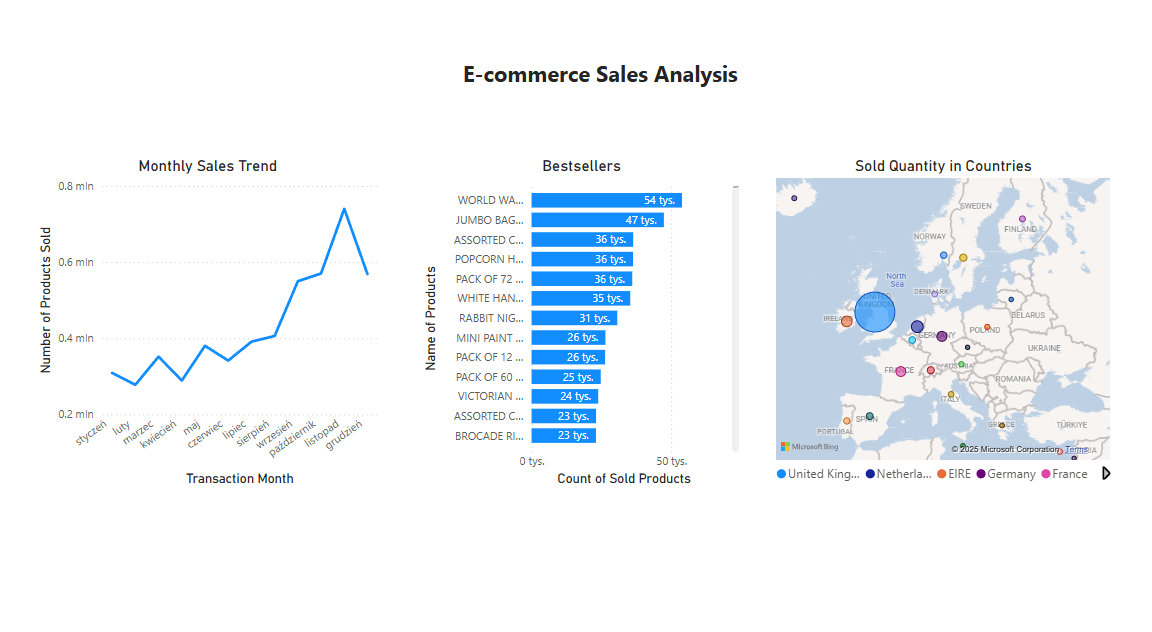

The page's visual inventory and layout, read from the dashboard file:
{"tool":"powerbi","page":{"name":"Strona 1","canvas":[1280,720],"ordinal":0},"visuals":[{"type":"lineChart","title":"Monthly Sales Trend","fields":{"Y":["Sum(data.Quantity)"],"Category":["data.InvoiceDate.Odmiana.Hierarchia dat.Miesiąc"]},"box":[49.4,181.1,381.5,367.8],"z":0},{"type":"clusteredBarChart","title":"Bestsellers","fields":{"Category":["data.Description"],"Y":["Sum(data.Quantity)"]},"box":[472,181.1,356.8,367.8],"z":1},{"type":"map","title":"Sold Quantity in Countries","fields":{"Category":["data.Country"],"Size":["Sum(data.Quantity)"],"Series":["data.Country"]},"box":[859,181.1,377.4,367.8],"z":2},{"type":"textbox","box":[391.1,70,559.9,70],"z":3}]}

Visuals, with their boxes in screenshot pixels (x1, y1, x2, y2), scaled from the page's 1280x720 canvas onto the 1152x632 screenshot:
"Monthly Sales Trend" lineChart: {"left": 44, "top": 159, "right": 388, "bottom": 482}
"Bestsellers" clusteredBarChart: {"left": 425, "top": 159, "right": 746, "bottom": 482}
"Sold Quantity in Countries" map: {"left": 773, "top": 159, "right": 1113, "bottom": 482}
textbox: {"left": 352, "top": 61, "right": 856, "bottom": 123}
